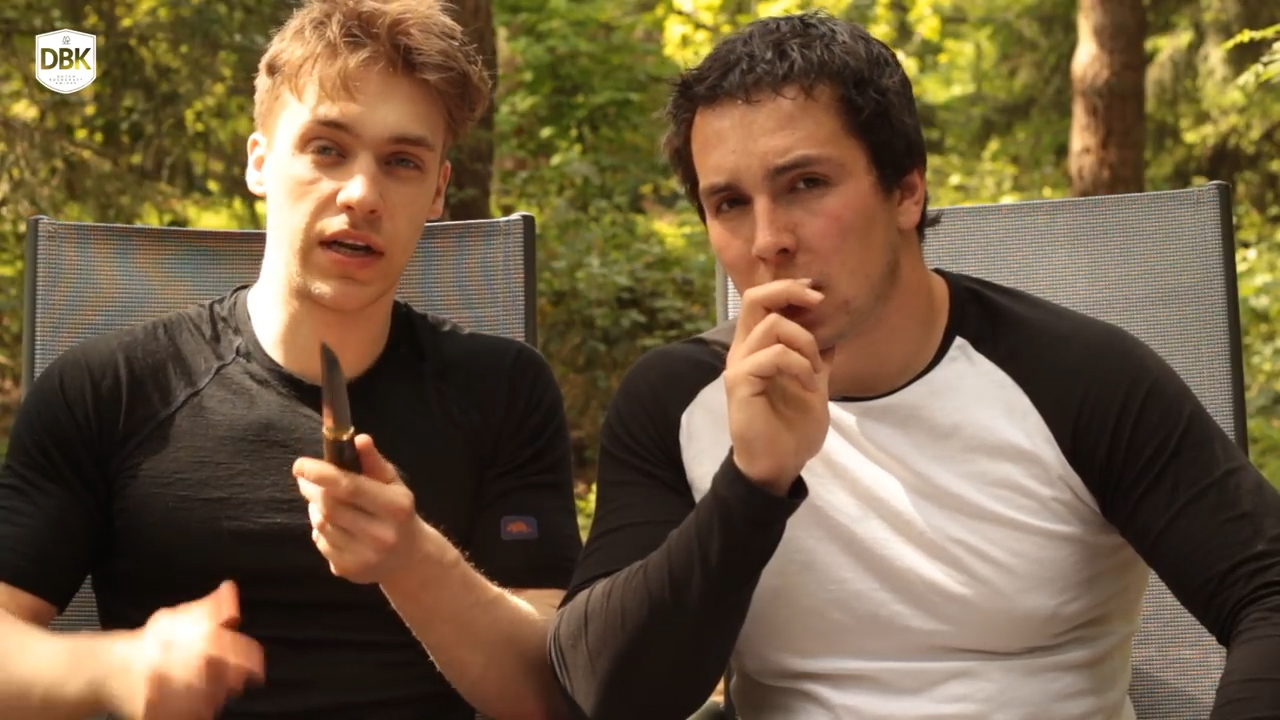knife: (262, 322, 422, 541)
